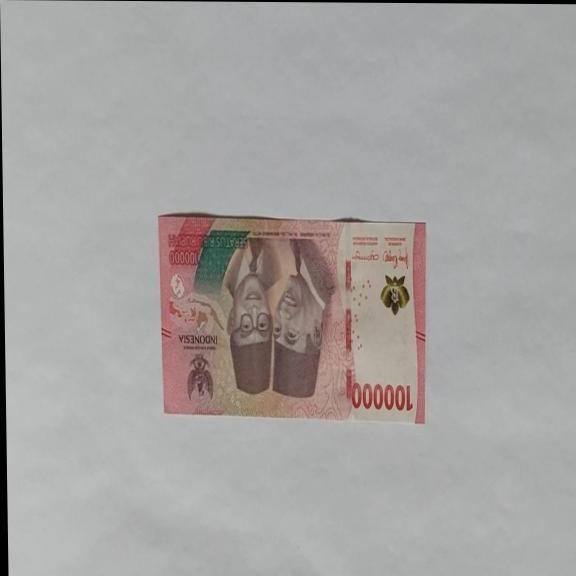Kertas: (158, 212, 429, 423), (350, 380, 414, 413)
